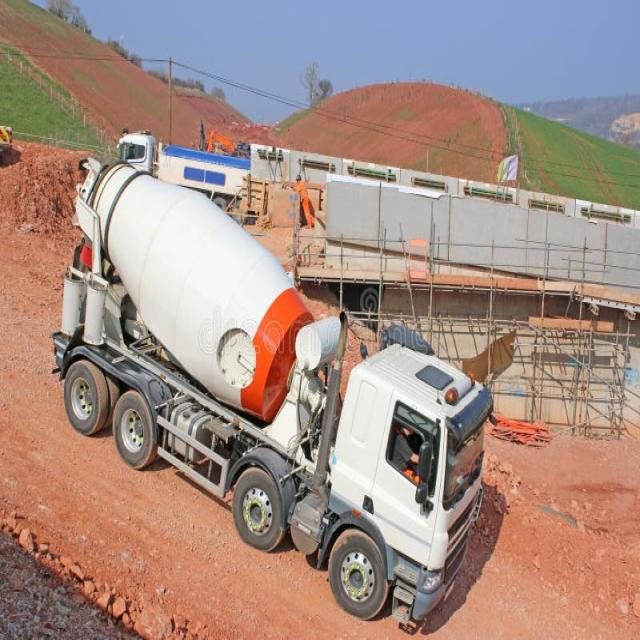truck: (54, 159, 494, 623), (117, 129, 250, 210)
